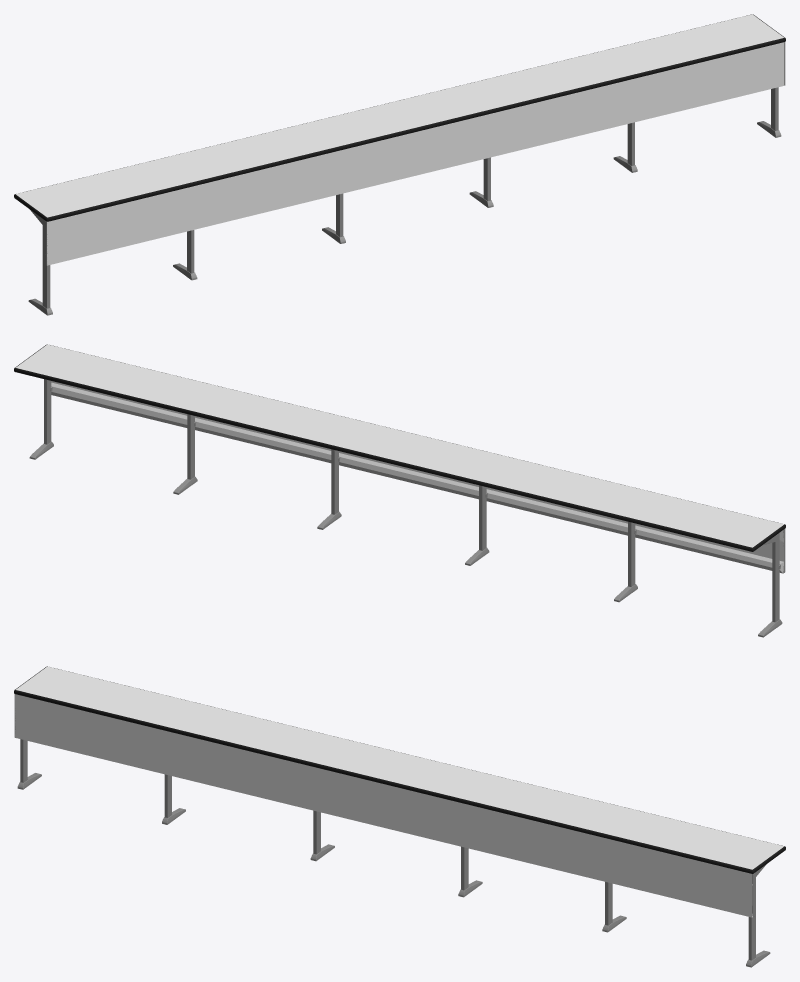
The model's file is Desk.fbx.
3 renders of one model, top to bottom at view 1: azimuth 30°, elevation 25°; view 2: azimuth 150°, elevation 25°; view 3: azimuth 330°, elevation 25°, orthographic.
Parts seen in each view (by area): view 1: desk; view 2: desk; view 3: desk.
Part boxes in pixels (bbox=[...]): desk: bbox=[14, 14, 785, 315]; desk: bbox=[14, 344, 785, 637]; desk: bbox=[14, 666, 785, 967].
Size of the model in its own units: 600 by 76.81 by 47.
Materials: 2 (1 with a texture image).
